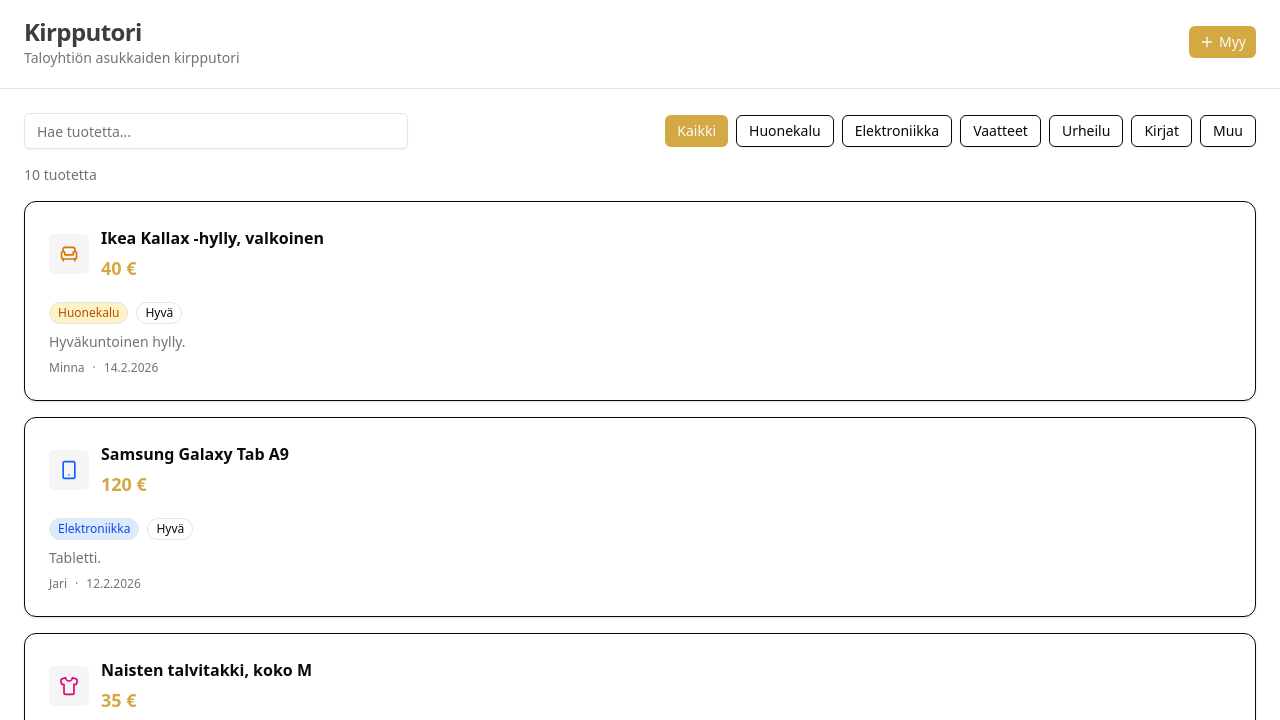
Test: MarketplaceList › shows validation errors for empty title
Click the button "Myy" at (1222, 42), box [1189,26,1256,58]
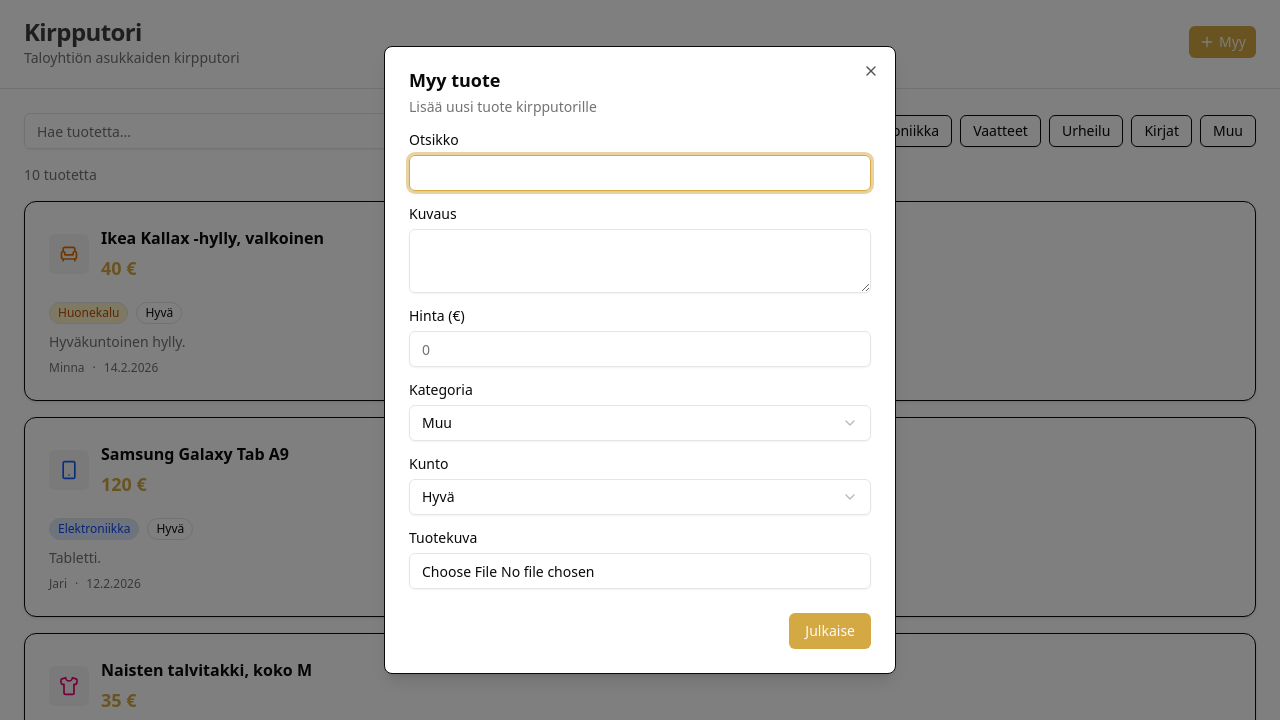
Fill only description, leave title empty
Clear the text box labelled "Kuvaus" at (640, 261), box [409,229,871,293]
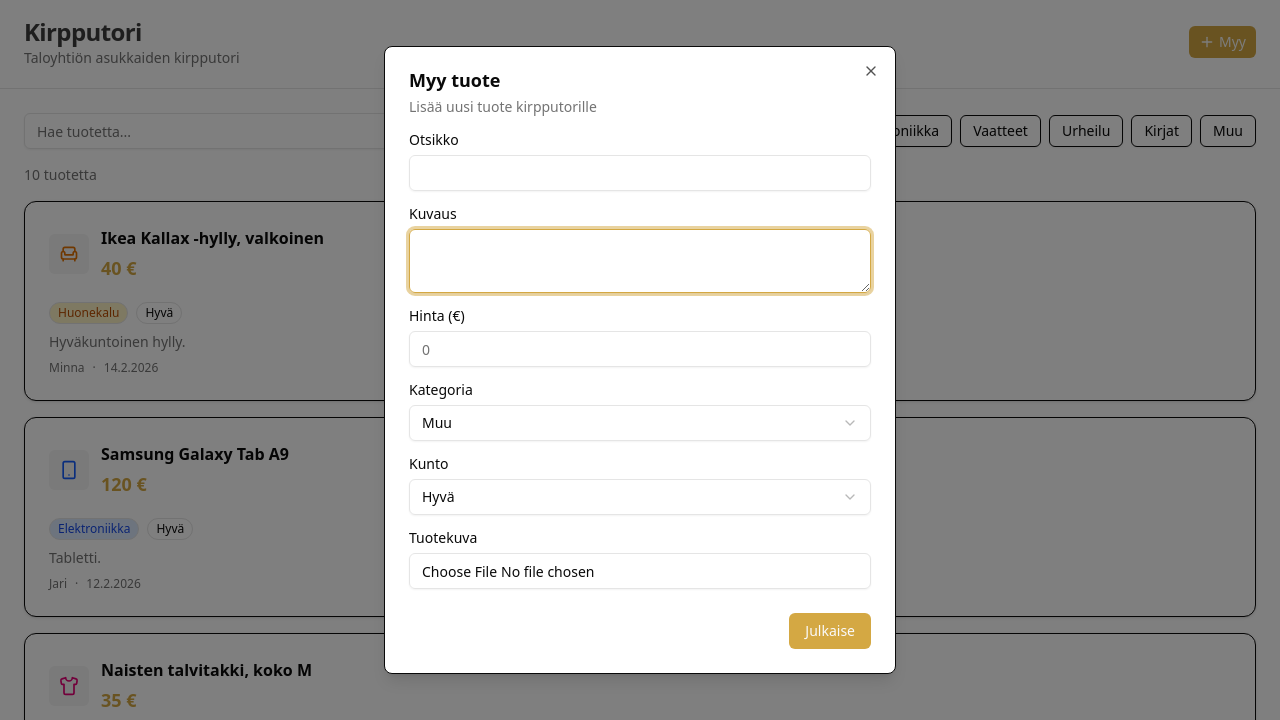
Type keys "Kuvaus ilman otsikkoa"
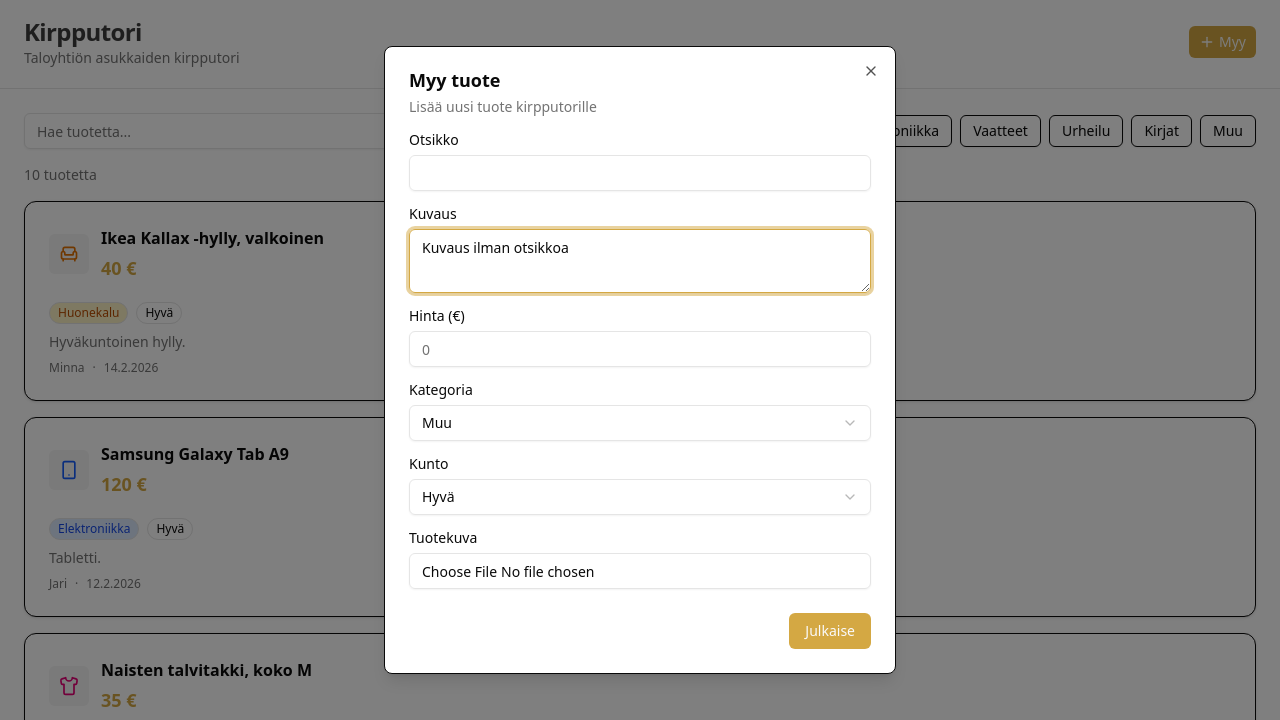
Click the button "Julkaise" at (830, 631), box [789,613,871,649]
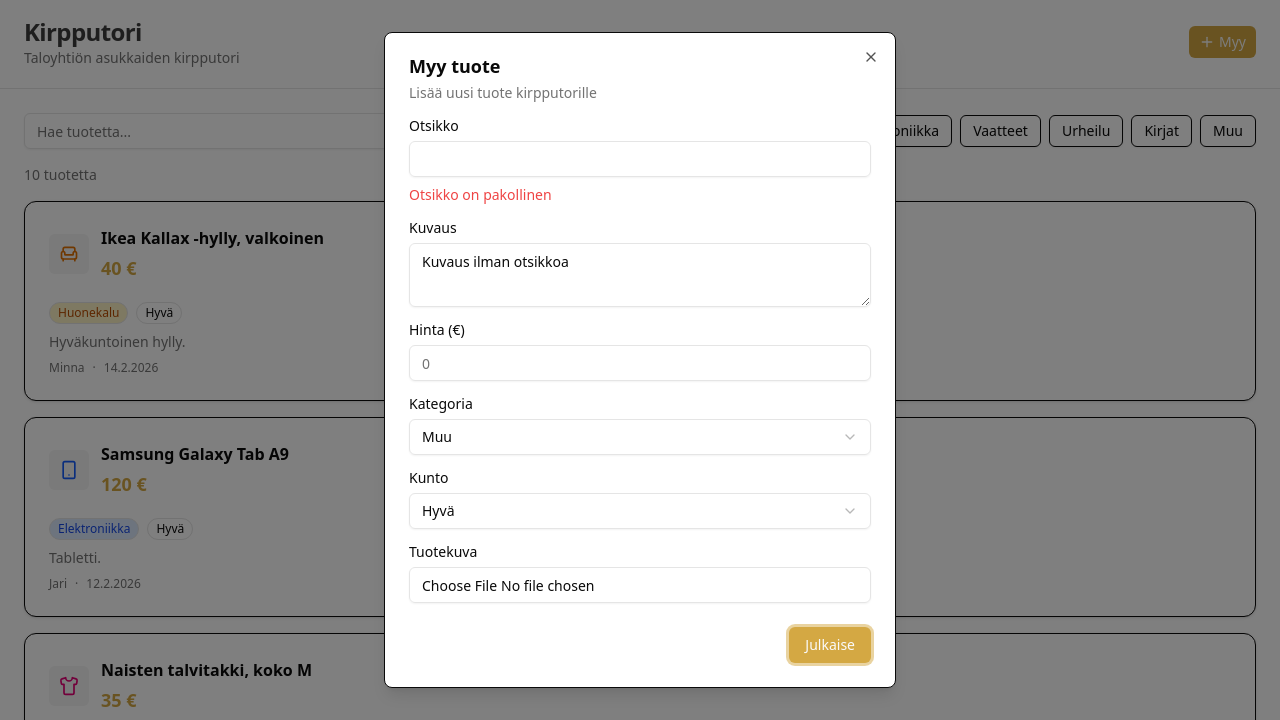
Check: the text "Otsikko on pakollinen" is shown, box [409,185,552,204]
